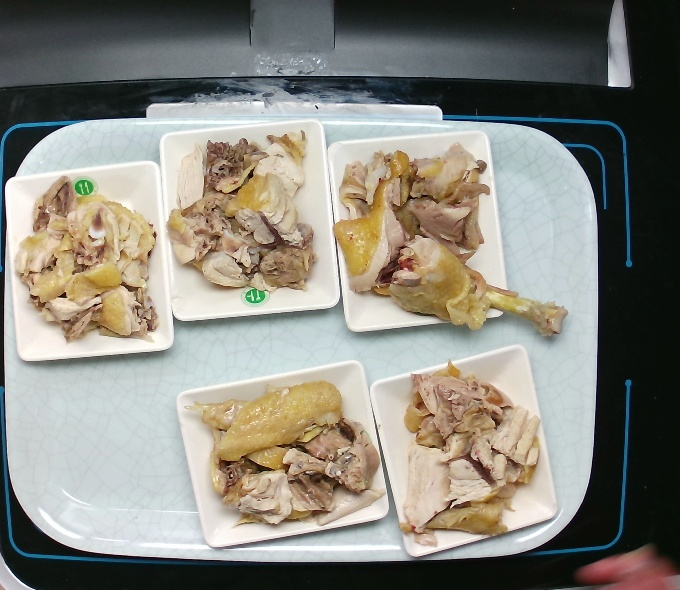wcq-BaiQieJi: (330, 144, 571, 334), (191, 371, 380, 526), (391, 364, 546, 548), (11, 172, 168, 351), (167, 127, 325, 292)
